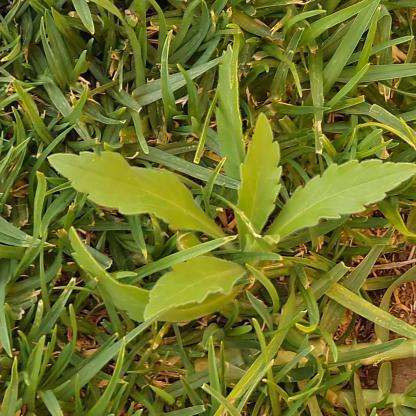Weeds: (45, 110, 415, 329)
